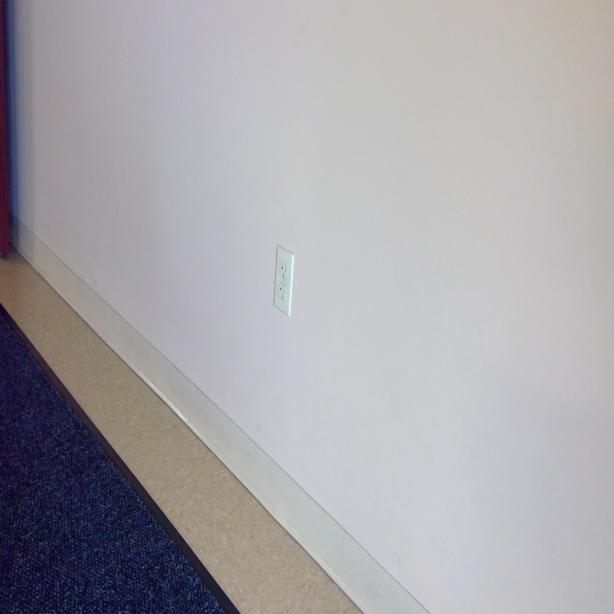typeb: (277, 282, 287, 302), (278, 260, 288, 279)
